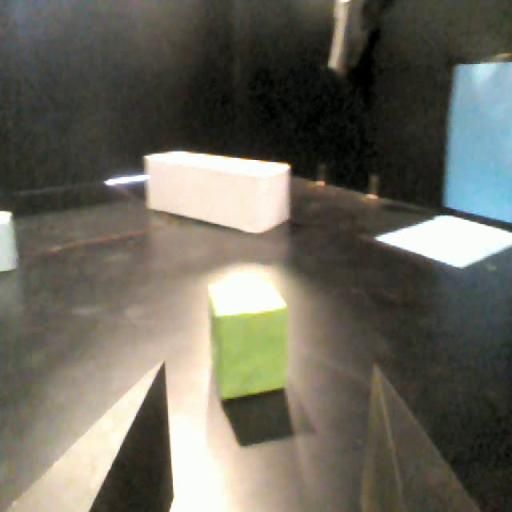cube: (200, 274, 292, 406)
